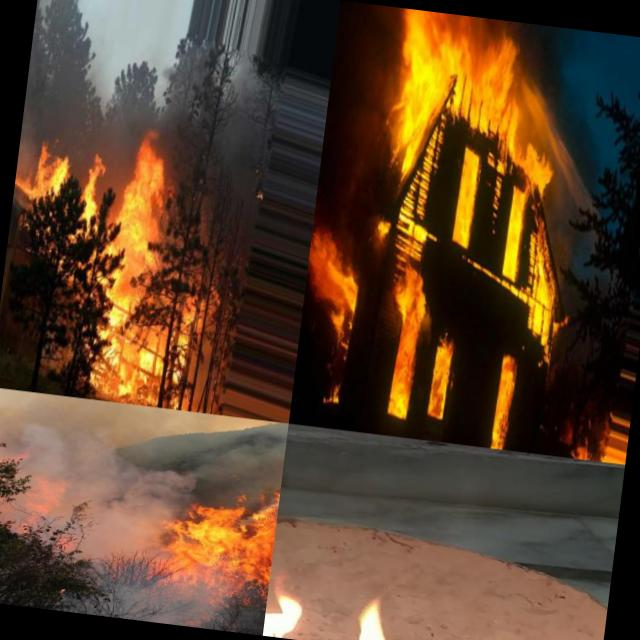fire: (382, 8, 568, 189), (262, 580, 547, 640), (150, 479, 280, 606), (100, 121, 171, 318), (374, 250, 436, 420), (89, 312, 188, 410), (510, 236, 579, 368), (300, 218, 366, 330), (484, 332, 518, 448), (424, 326, 459, 422), (76, 137, 110, 230), (177, 270, 224, 330), (12, 168, 66, 205), (34, 140, 72, 173), (250, 179, 266, 205)
smoke: (80, 404, 172, 592), (0, 389, 101, 520), (165, 412, 288, 494), (66, 582, 224, 630), (211, 66, 277, 178), (124, 52, 198, 130), (37, 61, 94, 145), (16, 60, 46, 171), (216, 172, 253, 245), (86, 90, 126, 142)
